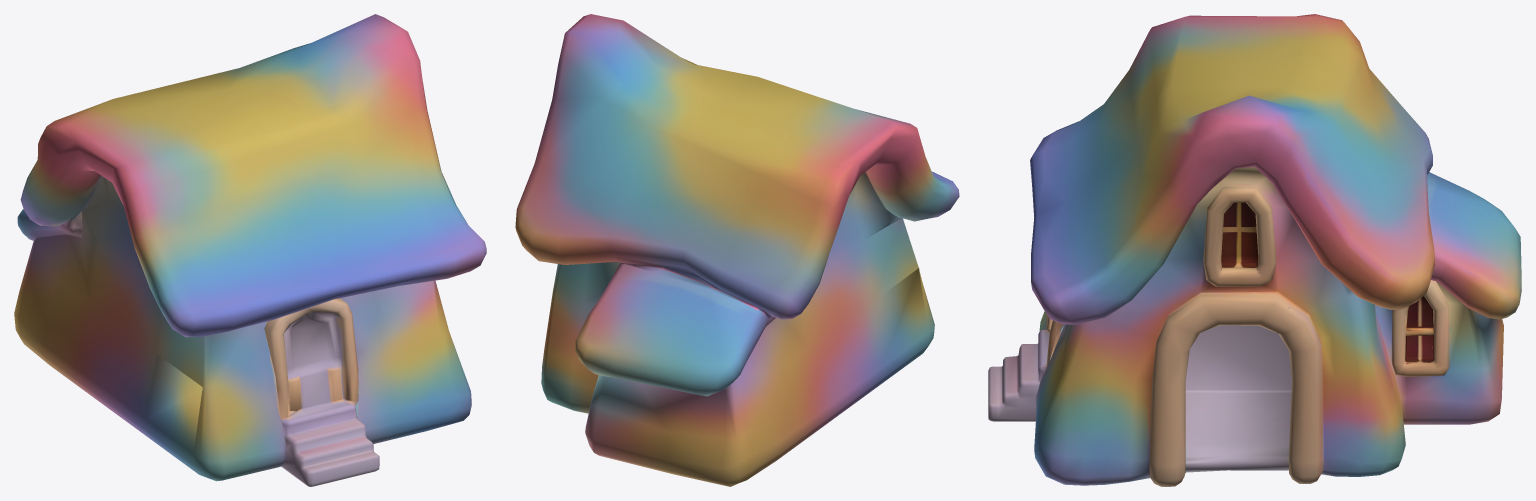
Rendered from 8c21aee5-d7a9-4713-8a07-6379e4083649.glb.
3 renders of one model, left to right at view 1: azimuth 30°, elevation 25°; view 2: azimuth 150°, elevation 25°; view 3: azimuth 270°, elevation 25°, orthographic. The views are drawn at different scales.
Visible parts, largest first — view 1: tripo_node_3942b388-a984-4451-b235-23b3306d925d; view 2: tripo_node_3942b388-a984-4451-b235-23b3306d925d; view 3: tripo_node_3942b388-a984-4451-b235-23b3306d925d.
Part boxes in pixels (x1,y1,x2,y2): tripo_node_3942b388-a984-4451-b235-23b3306d925d: (14,14,486,486); tripo_node_3942b388-a984-4451-b235-23b3306d925d: (515,14,959,486); tripo_node_3942b388-a984-4451-b235-23b3306d925d: (988,14,1521,486).
Bounding box in the file's own units: 0.773 × 0.7808 × 1.
Materials: 1 (1 with a texture image).
